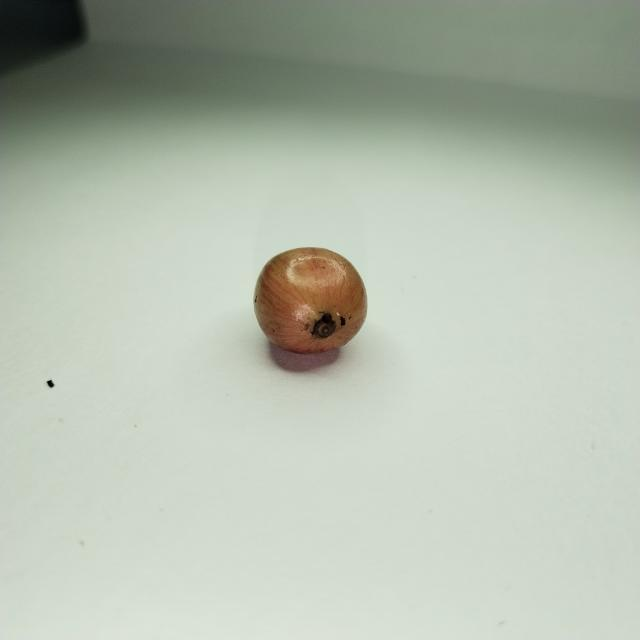Infectado: (252, 247, 368, 355)
